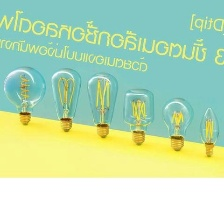light_bulb: (0, 63, 46, 129), (82, 70, 121, 141), (117, 88, 159, 148), (48, 64, 84, 133), (159, 96, 194, 150), (197, 105, 222, 160)
